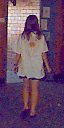person: (12, 15, 49, 117)
